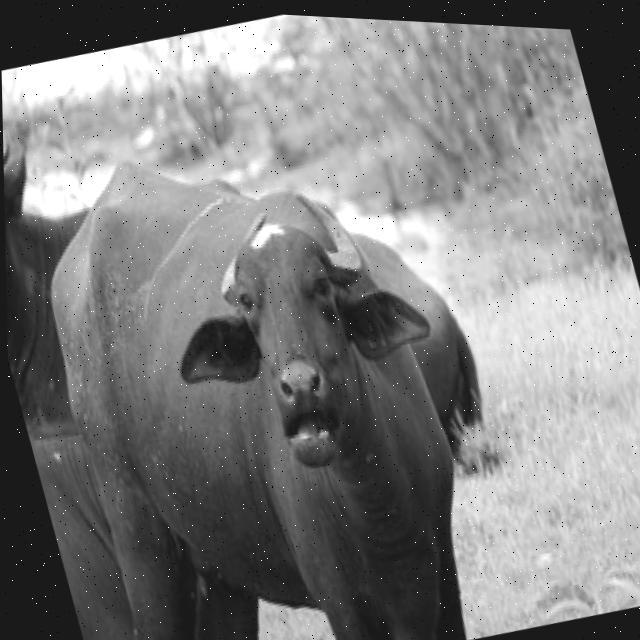Buffalo: (4, 97, 501, 640)
